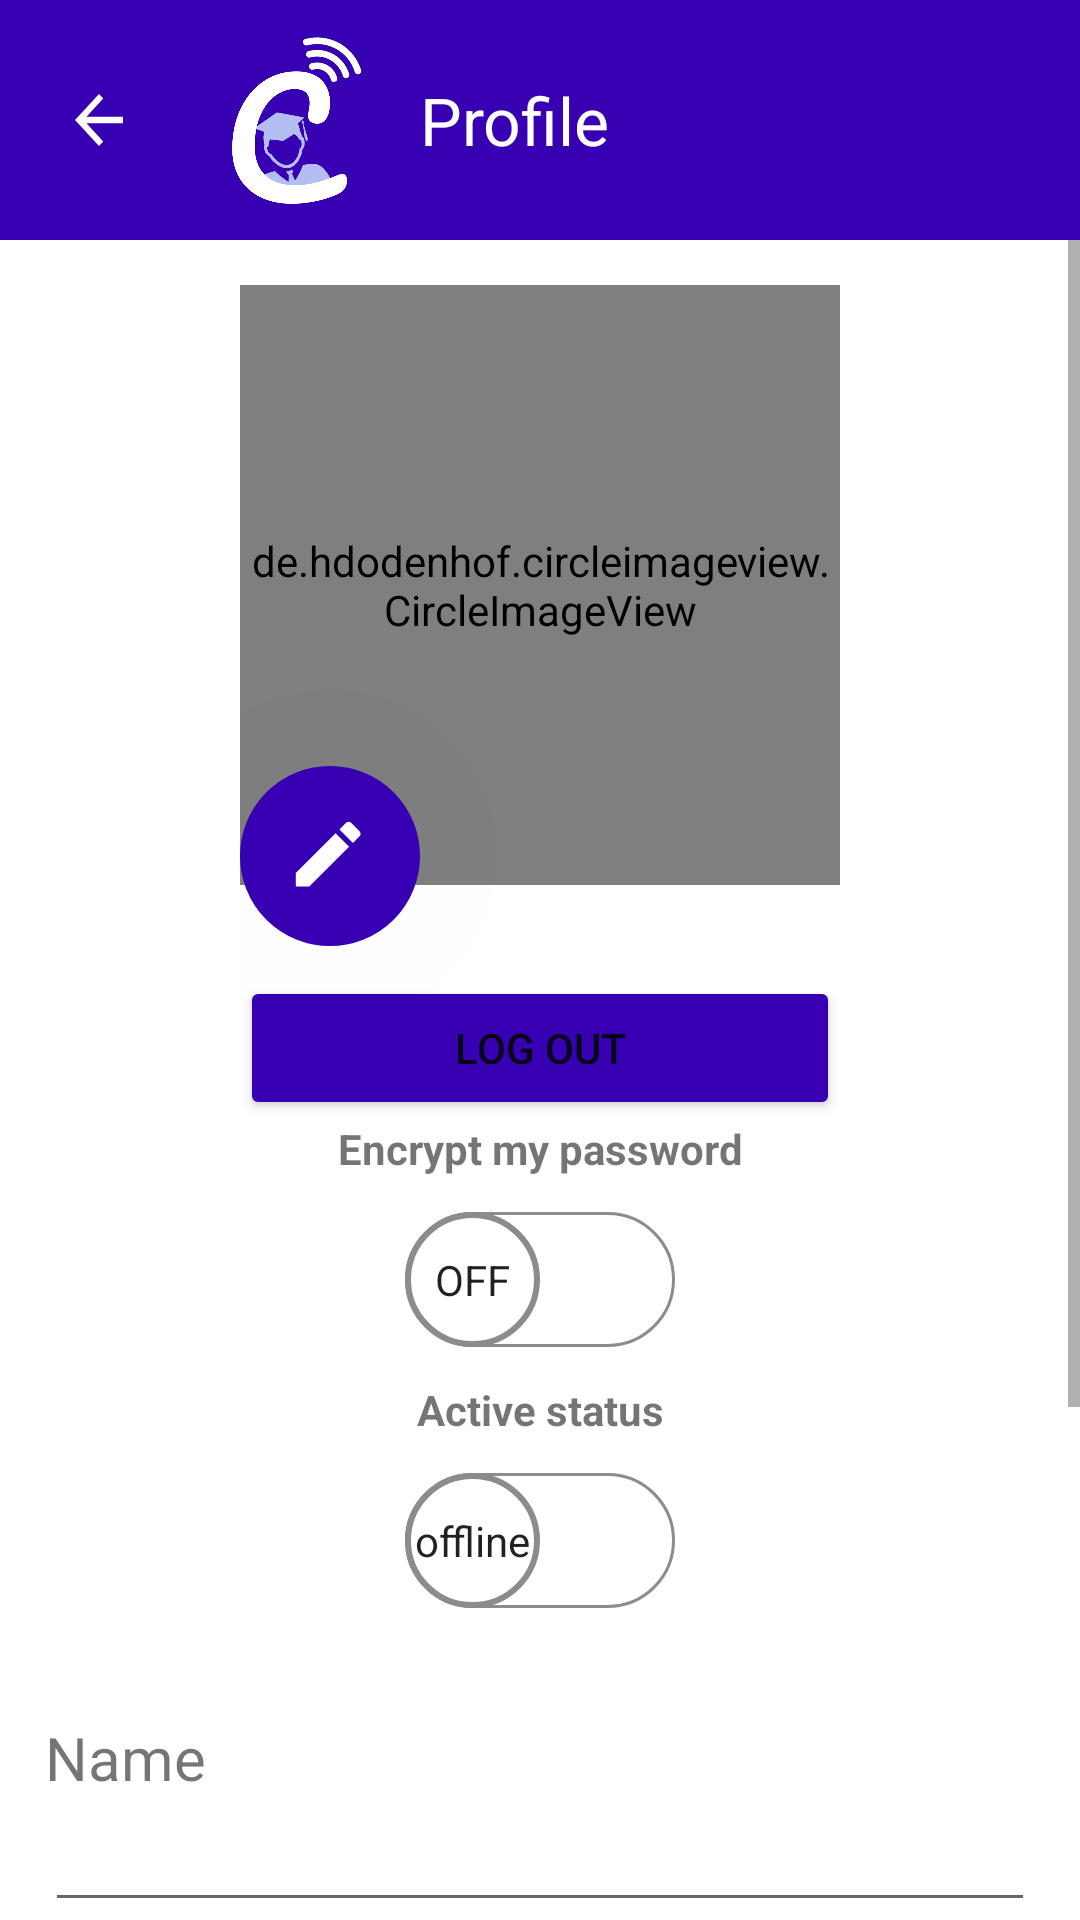

Locate icon controls on the screen. Image size 1080 x 1920, boxes as (x1, y1, x2, y2).
back: (75, 94, 123, 146)
